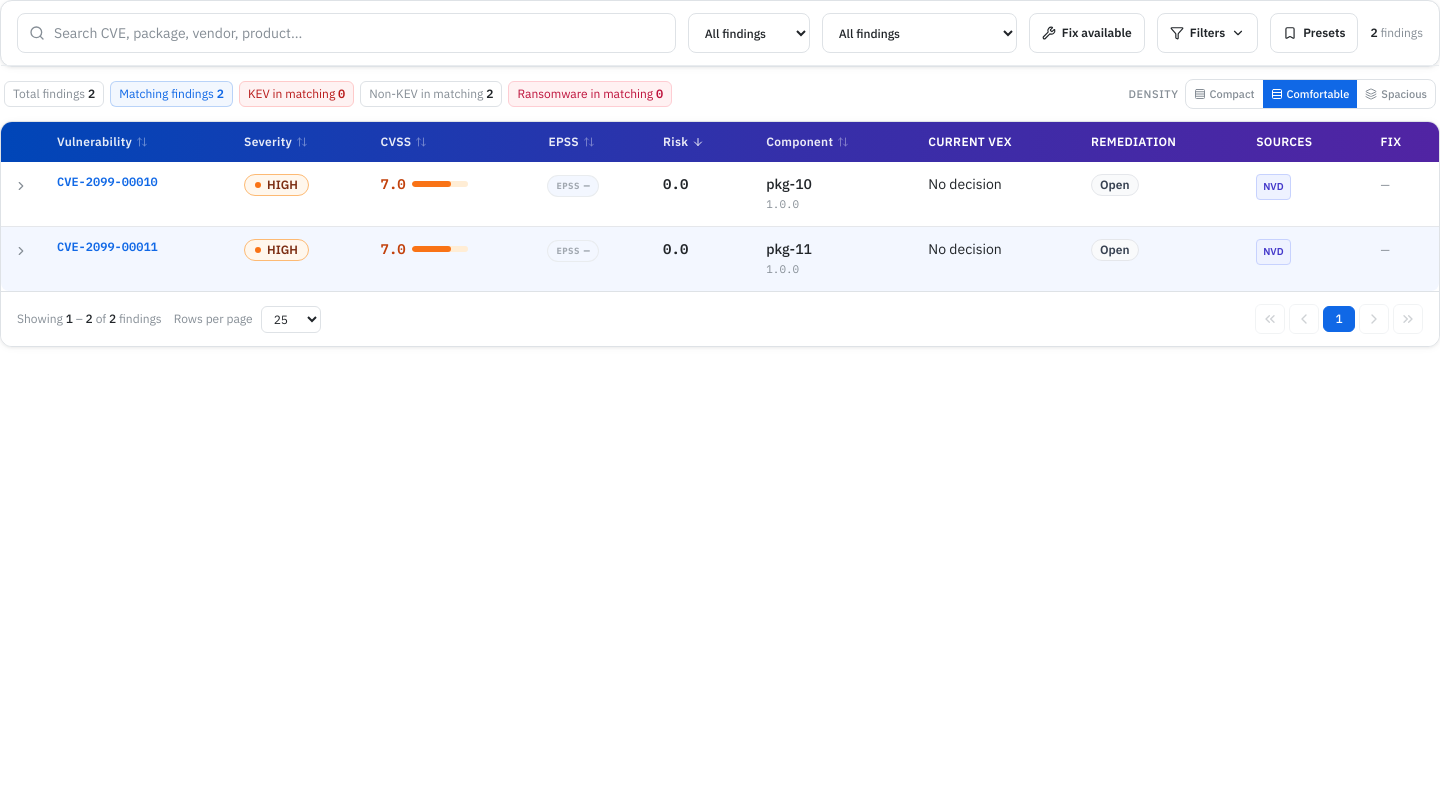
FindingsTable — strategy-filter options › surfaces only strategies actually present in the loaded findings
# Open the filter panel.
Step 1. Click the button "Filters" → (1207, 33), box x1=1157 y1=13 x2=1258 y2=53
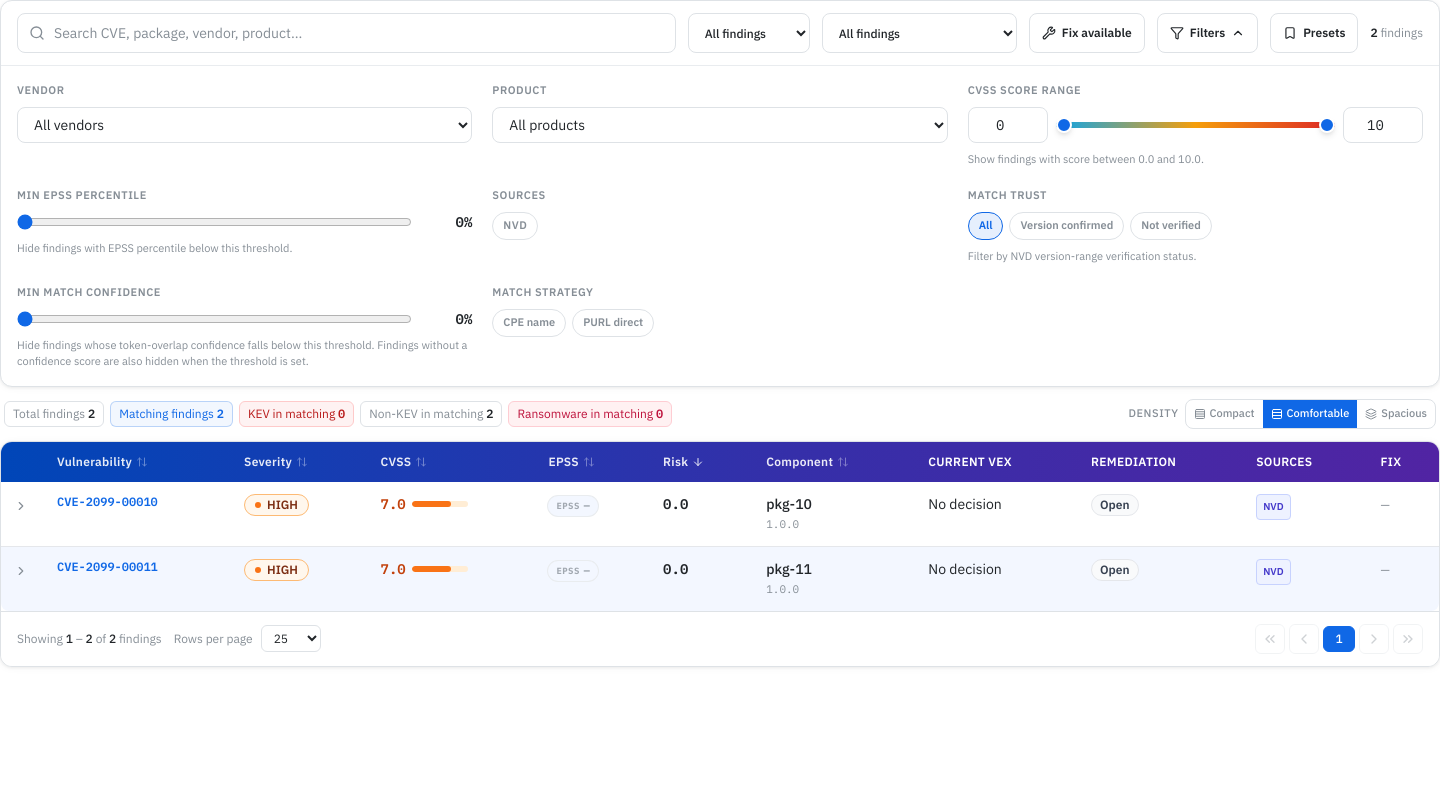
Now the text "Match strategy" is shown, box x1=492 y1=285 x2=594 y2=299
Now the button "CPE name" is shown, box x1=492 y1=308 x2=566 y2=336
Now the button "PURL direct" is shown, box x1=572 y1=308 x2=654 y2=336
